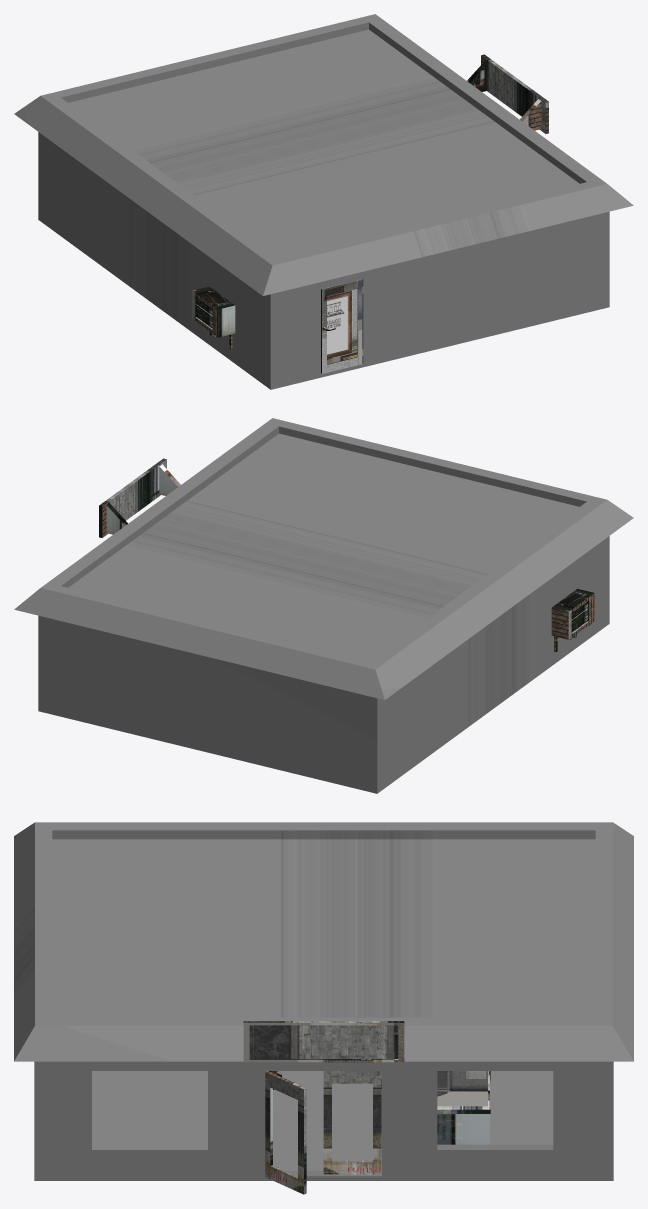
3 renders of one model, top to bottom at view 1: azimuth 30°, elevation 25°; view 2: azimuth 150°, elevation 25°; view 3: azimuth 270°, elevation 25°, orthographic. The views are drawn at different scales.
Parts seen in each view (by area): view 1: Cube, Cube.003, Cube.004, Cube.002; view 2: Cube, Cube.004, Cube.002; view 3: Cube, Cube.004, Cube.006, Cube.001, Cube.007.
Part boxes in pixels (<box>): Cube: <box>14,14,633,389</box>; Cube.003: <box>321,279,363,373</box>; Cube.004: <box>467,54,548,133</box>; Cube.002: <box>192,286,235,349</box>; Cube: <box>14,418,633,793</box>; Cube.004: <box>99,458,180,537</box>; Cube.002: <box>551,589,594,652</box>; Cube: <box>14,822,633,1180</box>; Cube.004: <box>243,1021,404,1062</box>; Cube.006: <box>437,1071,490,1144</box>; Cube.001: <box>323,1071,381,1174</box>; Cube.007: <box>265,1071,306,1194</box>.
Size of the model in its own units: 957 by 327 by 1068.
